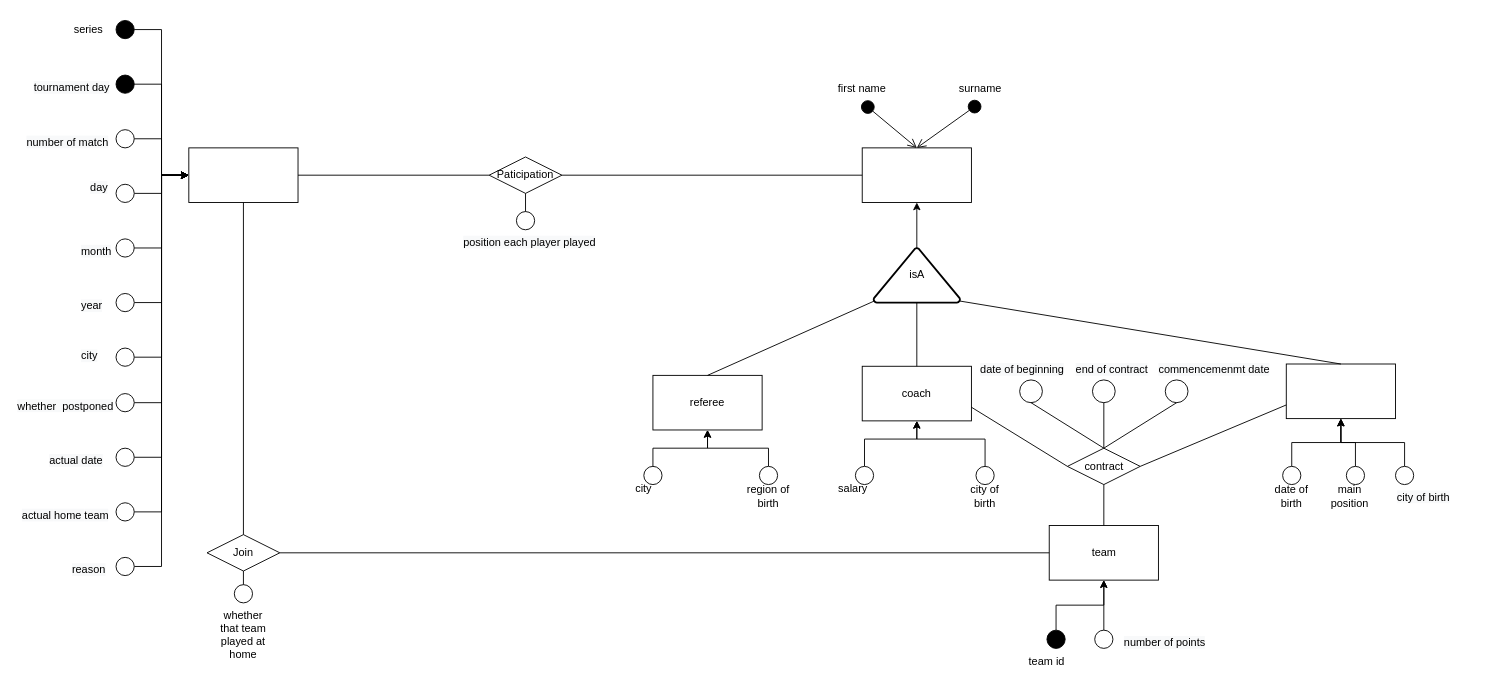
The diagram is 1492 pixels wide and 691 high, and some of its shapes have lost their labels. The shapes that lost their labels are listed below. From the top down, each one's centre as x and y in pixels, then its label:
At [243,174]: "match".
At [916,174]: "Person".
At [1340,391]: "player".
